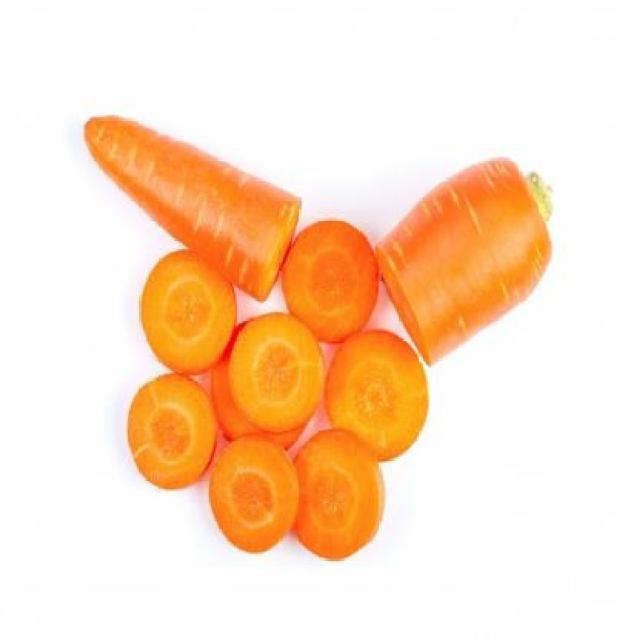carrot: (83, 110, 307, 304), (370, 150, 558, 373)
